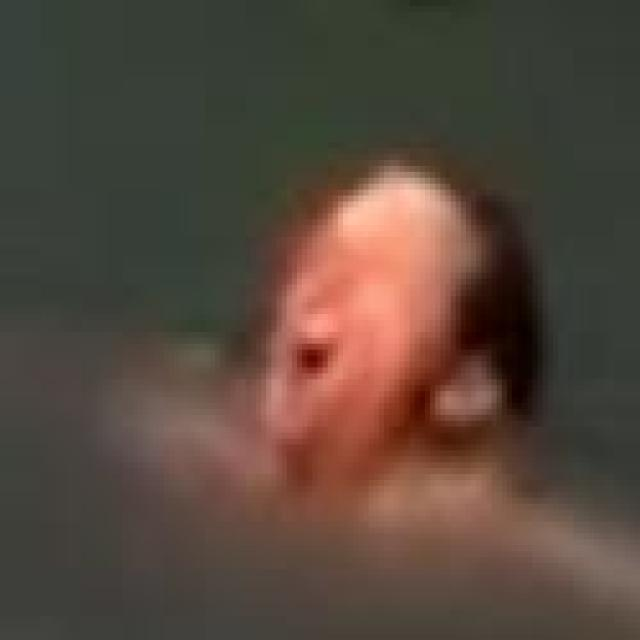Out of Water: (246, 151, 558, 483)
